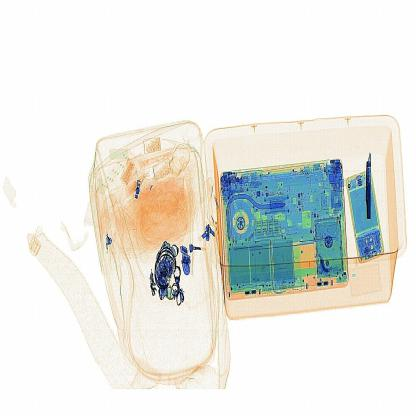pliers: (362, 154, 380, 222)
